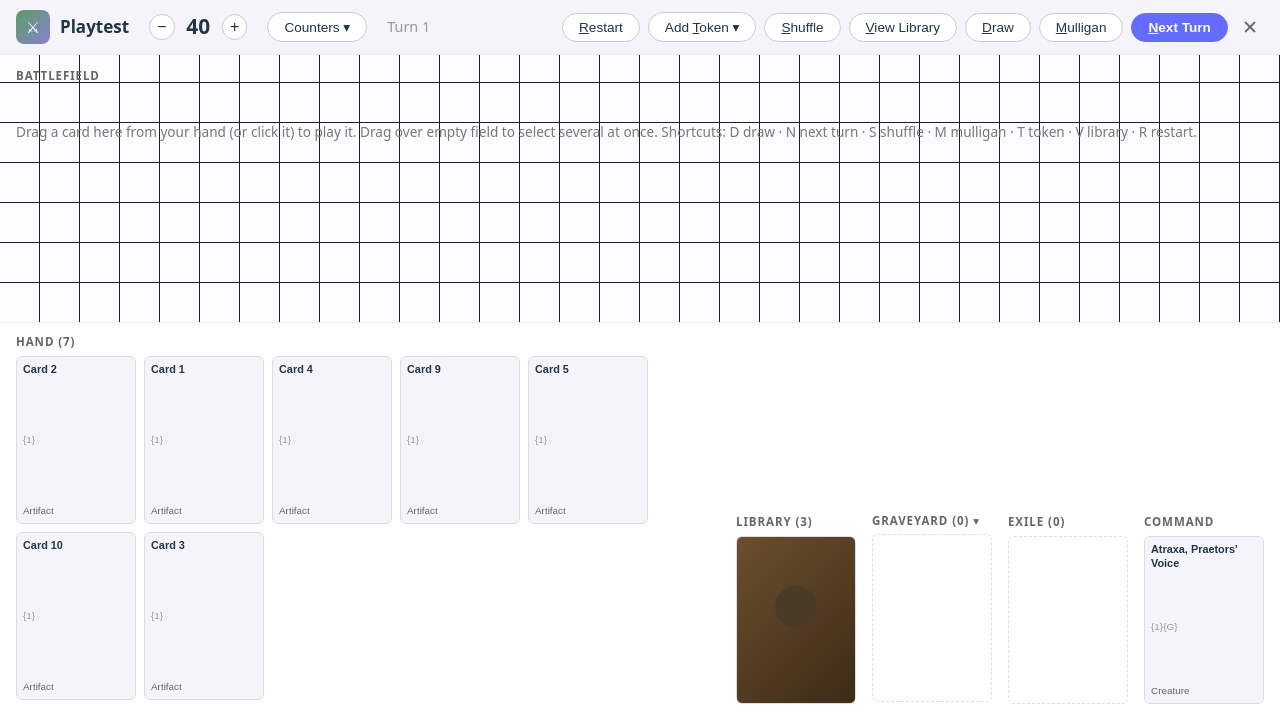
Test: Playtest › draws, advances the turn (untap + draw), and tracks life
Click the button "Draw": (998, 27) [965,12,1031,42]
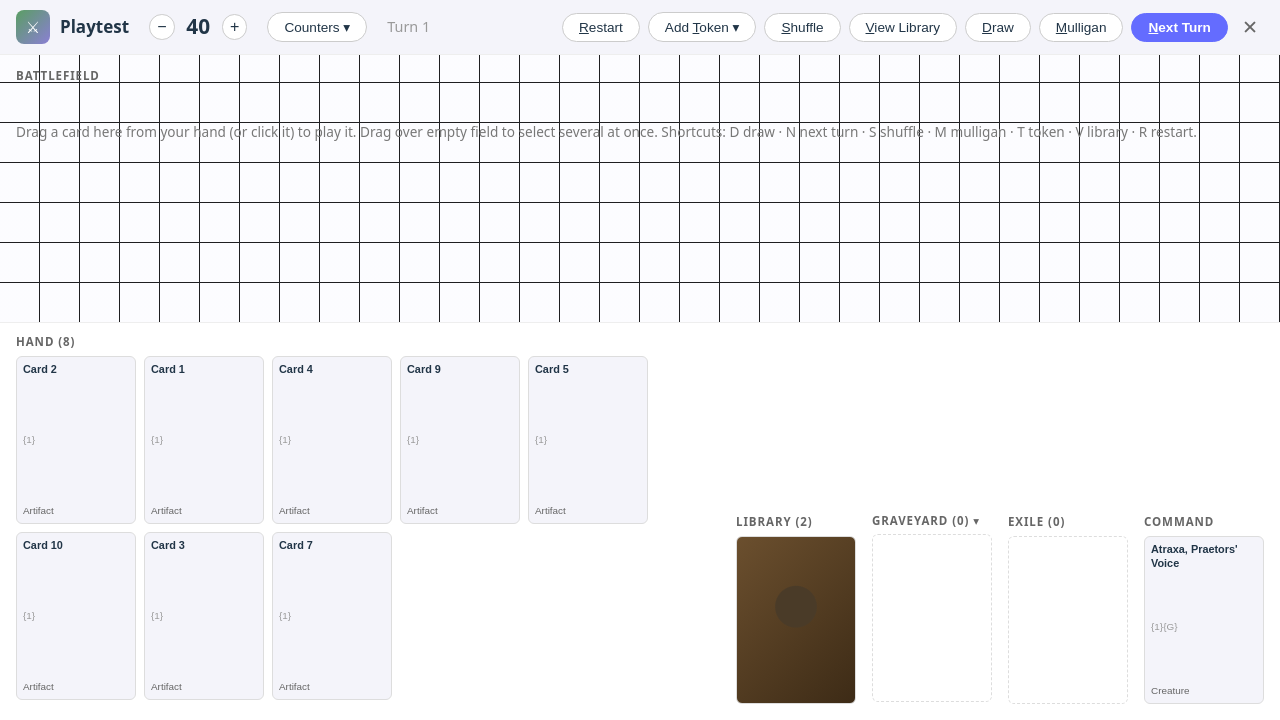
expect the text "Hand (8)" is shown: met, box [16,334,75,349]
Click the button "Next Turn": (1180, 27) [1132,12,1228,42]
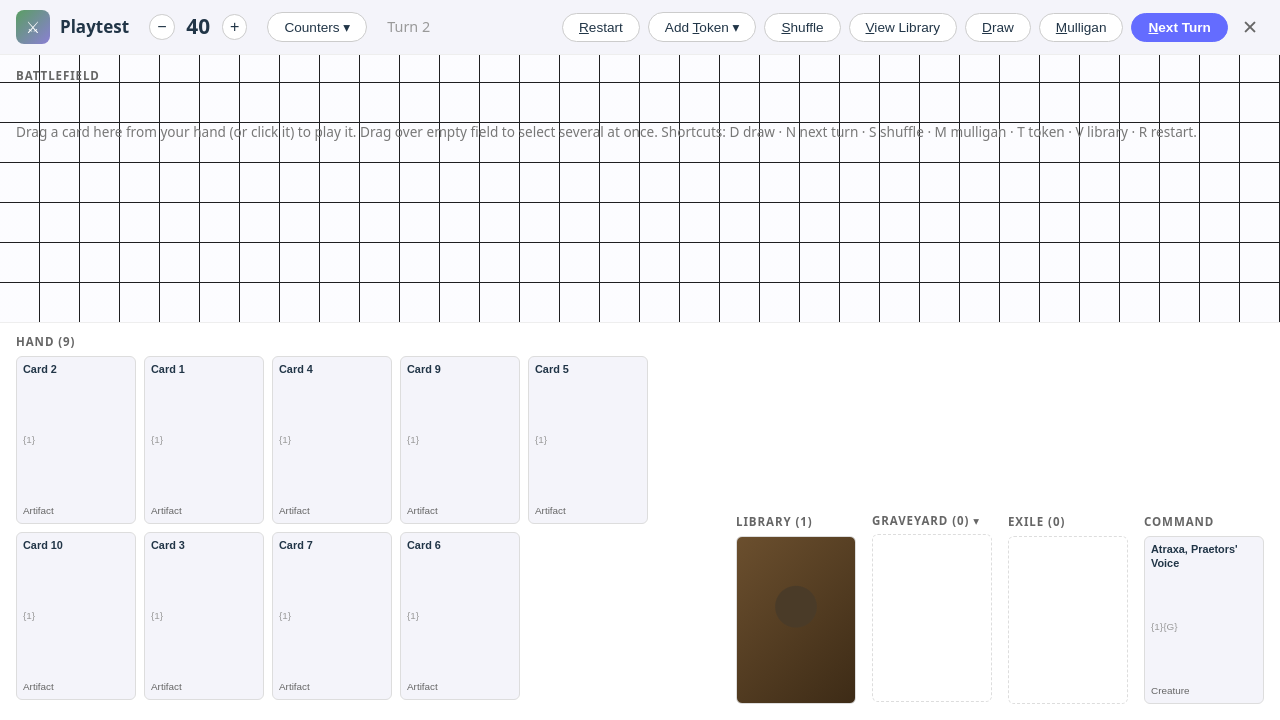
expect the text "Turn 2" is shown: met, box [387,16,430,38]
expect the text "Hand (9)" is shown: met, box [16,334,75,349]
Click the button named "Lose a life": (162, 27) [149,14,175,40]
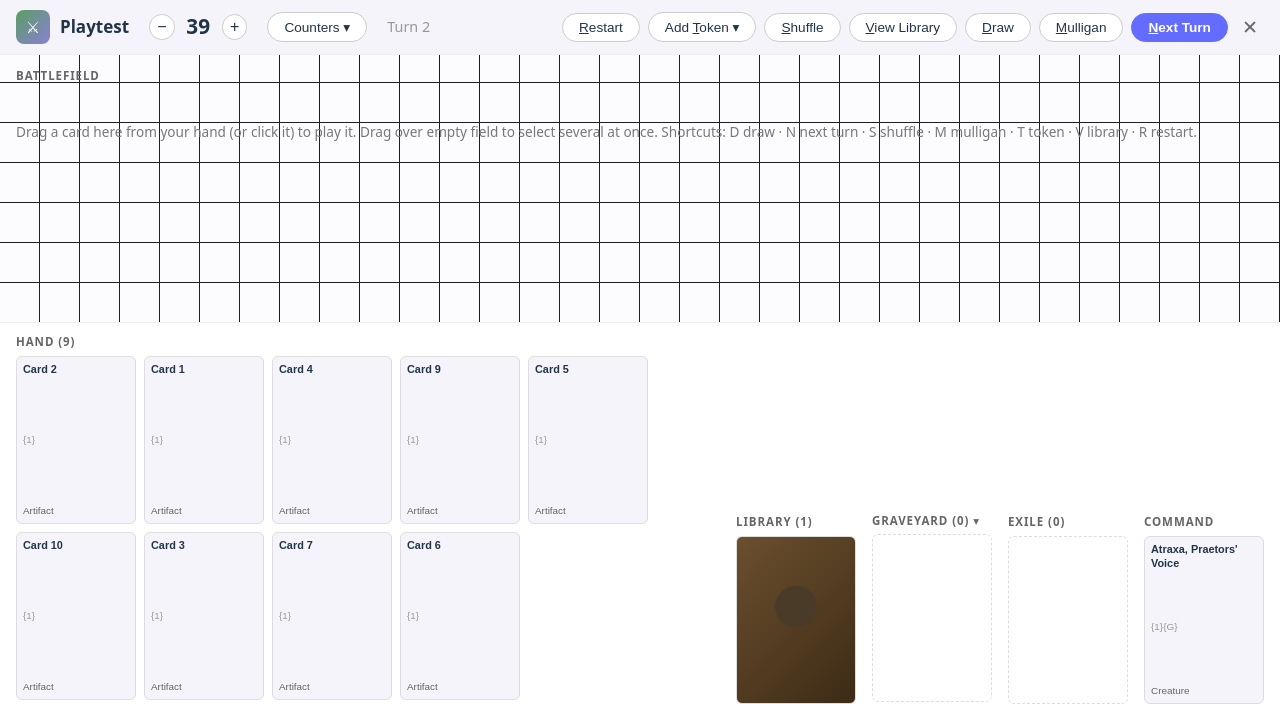
expect the element named "Life total" shows "39": met, box [186,12,210,40]
